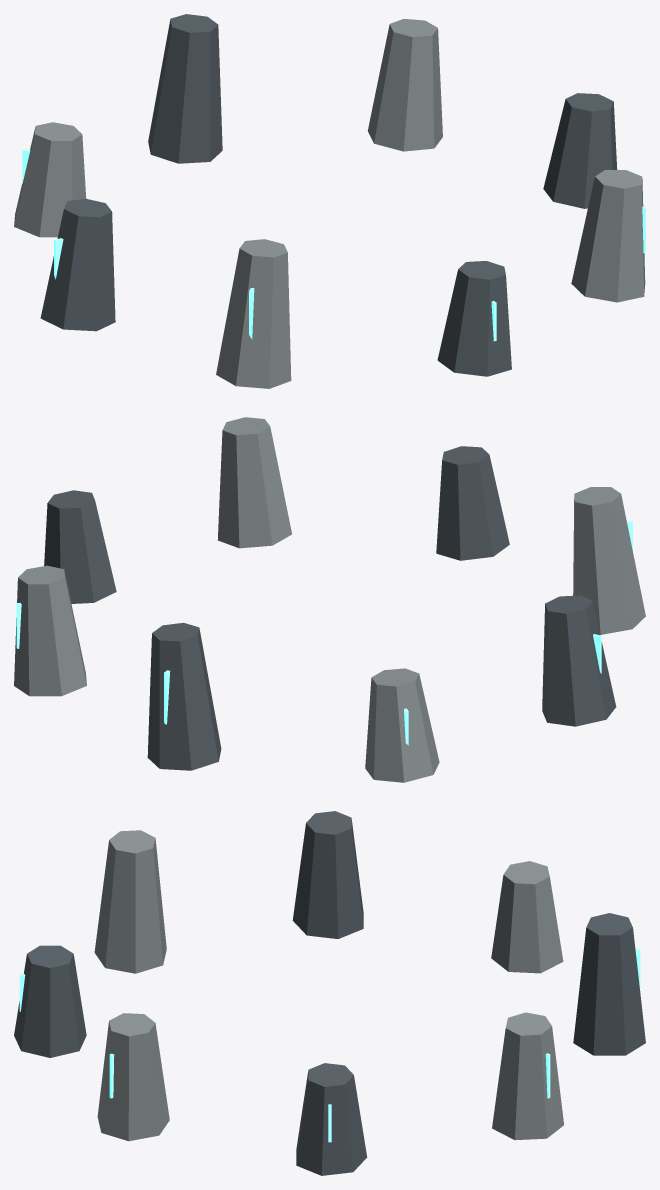
File: wellspring_boundary_stones.glb
3 views of the same model, one above another, from view 1: azimuth 30°, elevation 25°; view 2: azimuth 150°, elevation 25°; view 3: azimuth 270°, elevation 25° (orthographic). The views are drawn at different scales.
Parts seen in each view (by area): view 1: Boundary_Stone_3, Boundary_Stone_6, Boundary_Stone_2, Boundary_Stone_8, Boundary_Stone_5, Boundary_Stone_7, Boundary_Stone_1, Boundary_Stone_4; view 2: Boundary_Stone_3, Boundary_Stone_6, Boundary_Stone_8, Boundary_Stone_5, Boundary_Stone_2, Boundary_Stone_4, Boundary_Stone_7, Boundary_Stone_1; view 3: Boundary_Stone_6, Boundary_Stone_3, Boundary_Stone_5, Boundary_Stone_8, Boundary_Stone_2, Boundary_Stone_7, Boundary_Stone_4, Boundary_Stone_1.
Part boxes in pixels (x1,y1,x2,y2): Boundary_Stone_3: (148,14,222,163); Boundary_Stone_6: (216,239,291,388); Boundary_Stone_2: (367,19,442,151); Boundary_Stone_8: (571,170,645,302); Boundary_Stone_5: (40,198,115,331); Boundary_Stone_7: (437,261,511,376); Boundary_Stone_1: (543,93,617,208); Boundary_Stone_4: (14,122,86,237); Boundary_Stone_3: (147,622,221,770); Boundary_Stone_6: (573,487,645,634); Boundary_Stone_8: (217,417,291,548); Boundary_Stone_5: (542,595,616,726); Boundary_Stone_2: (14,565,86,696); Boundary_Stone_4: (365,668,439,782); Boundary_Stone_7: (436,446,509,560); Boundary_Stone_1: (44,490,116,603); Boundary_Stone_6: (94,830,166,973); Boundary_Stone_3: (573,913,645,1055); Boundary_Stone_5: (292,811,363,938); Boundary_Stone_8: (97,1013,169,1141); Boundary_Stone_2: (492,1012,563,1140); Boundary_Stone_7: (14,945,86,1057); Boundary_Stone_4: (491,861,563,973); Boundary_Stone_1: (296,1063,367,1175).
Size of the model in its own units: 7.12 by 1.54 by 7.12.
